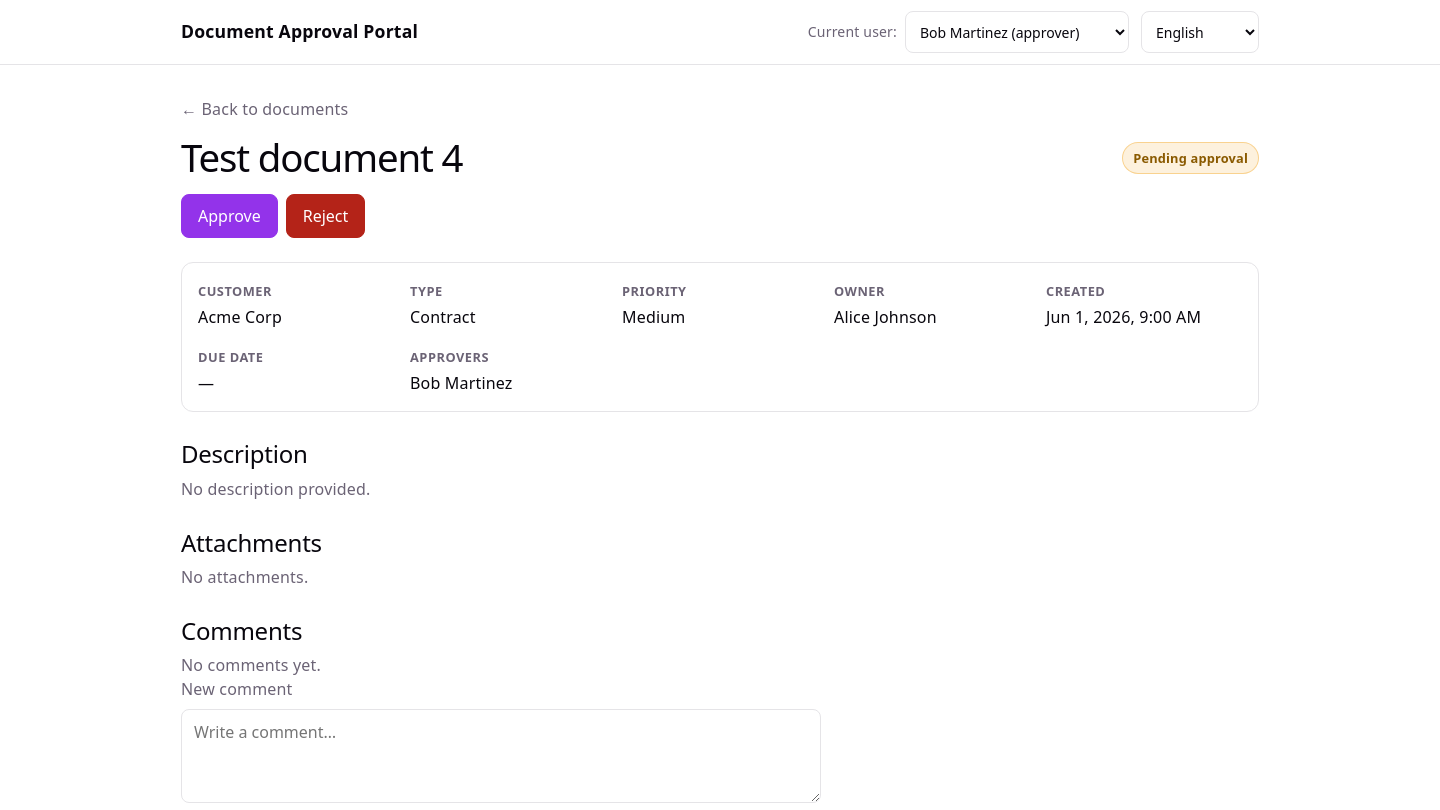
Test case: rejecting a document › requires a reason before sending anything to the API
What coordinates should you click on to do the following:
click the button "Reject"
I would click on:
 (326, 216)
Its box is [286,194,365,238].
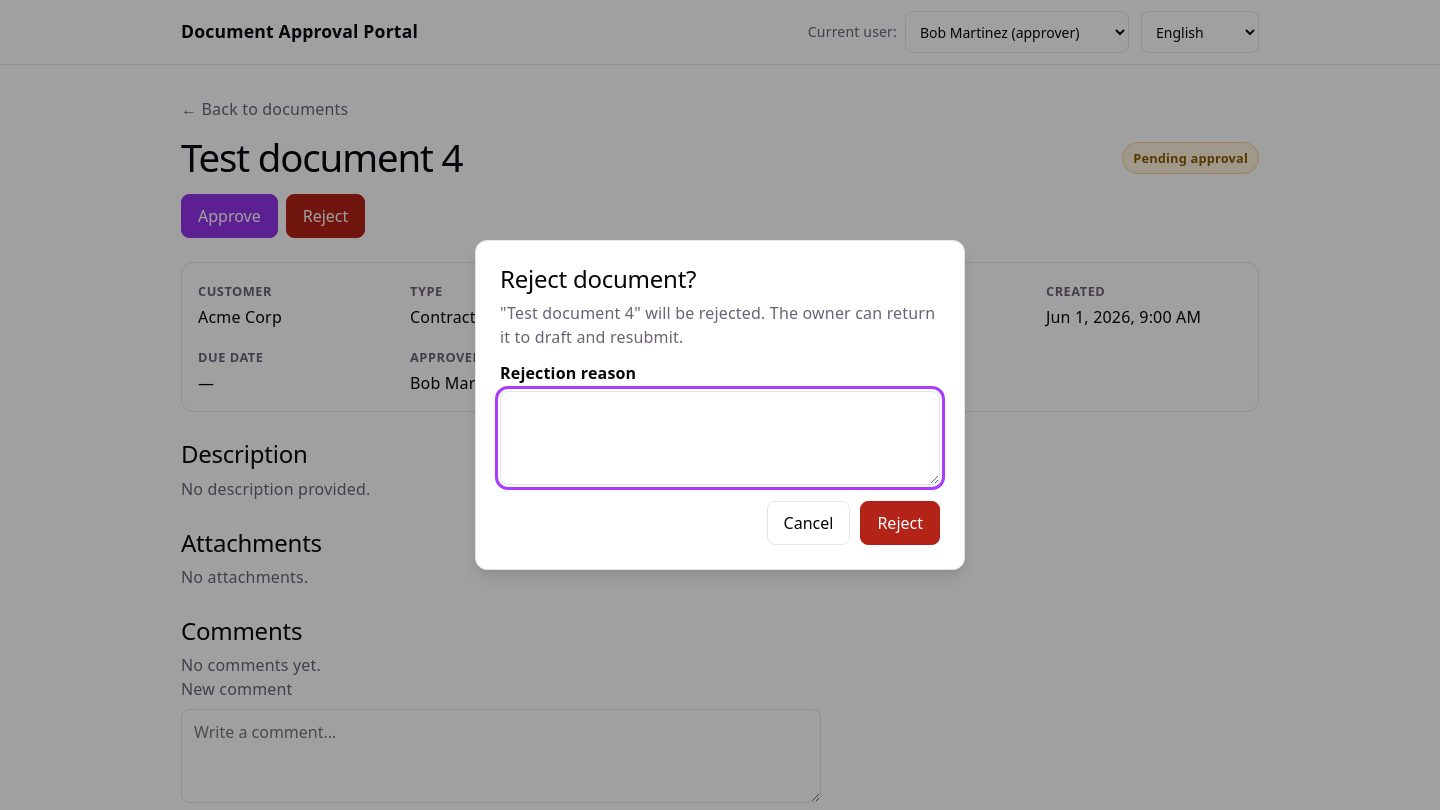
What coordinates should you click on to do the following:
click the button "Reject"
I would click on:
 (900, 523)
Its box is [860,501,940,545].
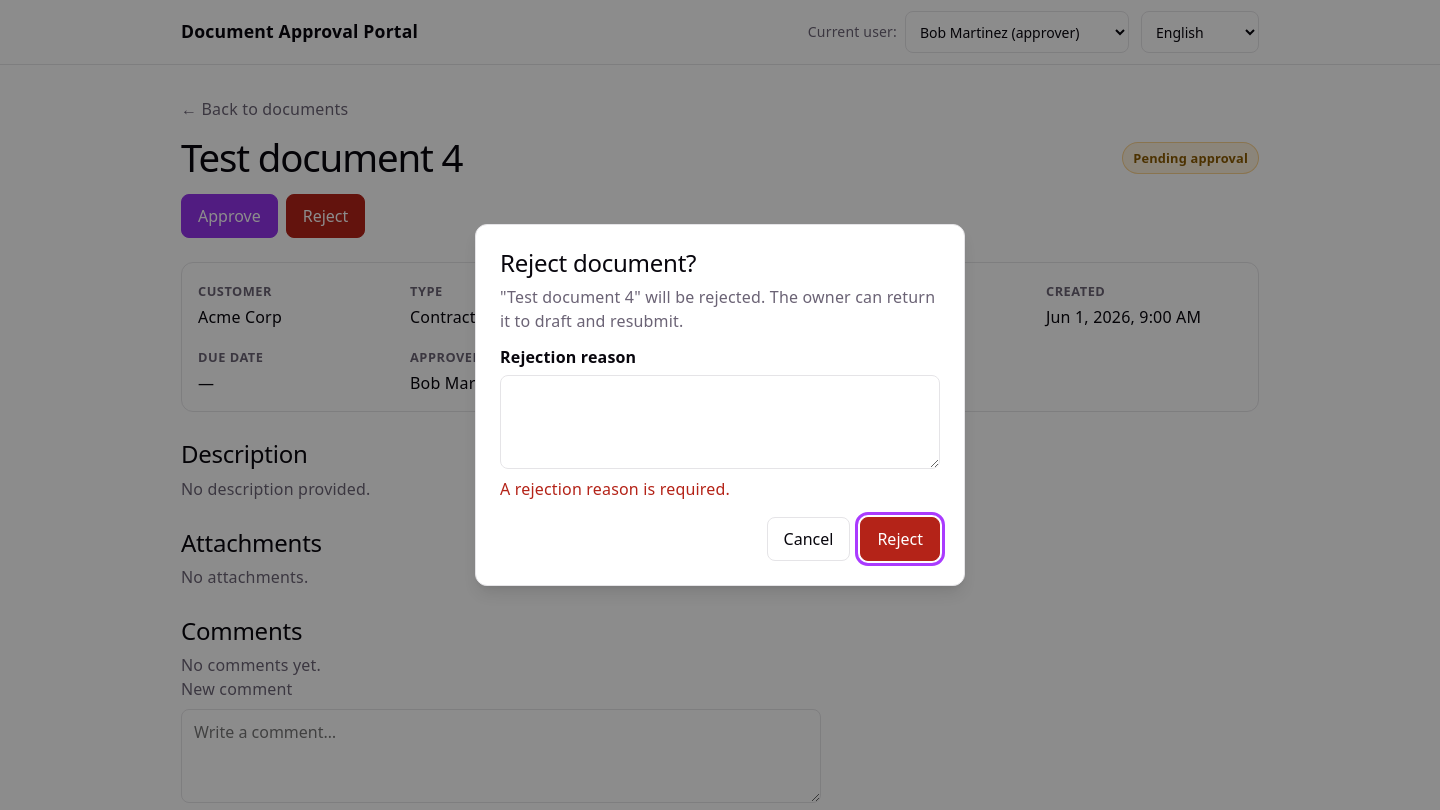
Expected: the message reads "A rejection reason is required.", [500,478,730,500]
